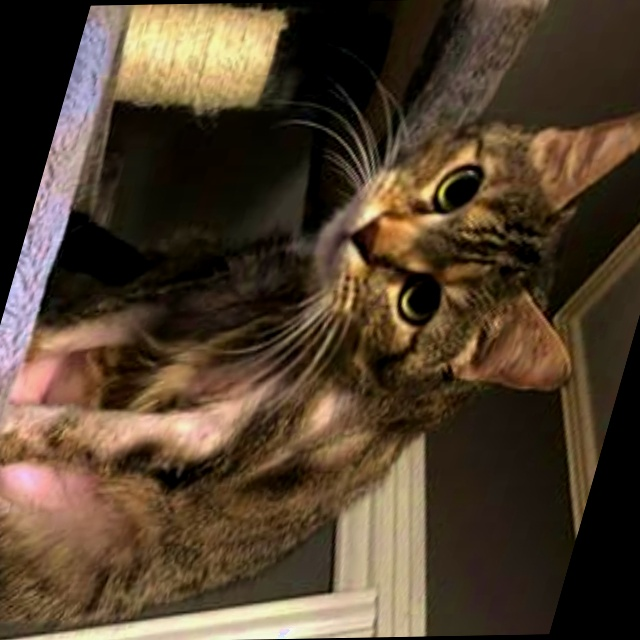hairloss: (55, 406, 238, 451), (27, 303, 152, 361), (0, 473, 131, 521)
